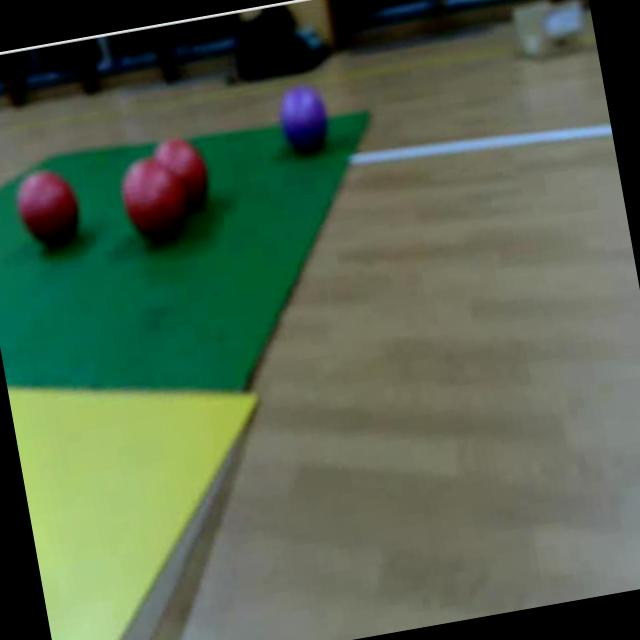purple_ball: (270, 80, 337, 164)
red_ball: (11, 160, 88, 257), (116, 148, 191, 247), (156, 130, 216, 212)
